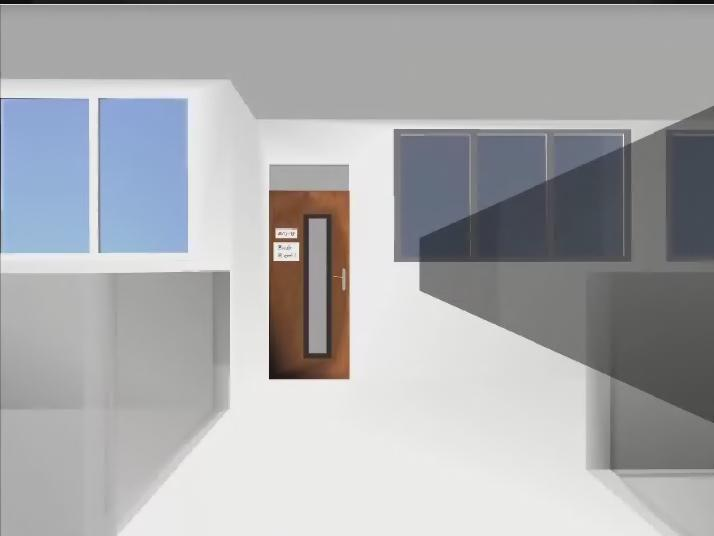door: (269, 191, 350, 380)
